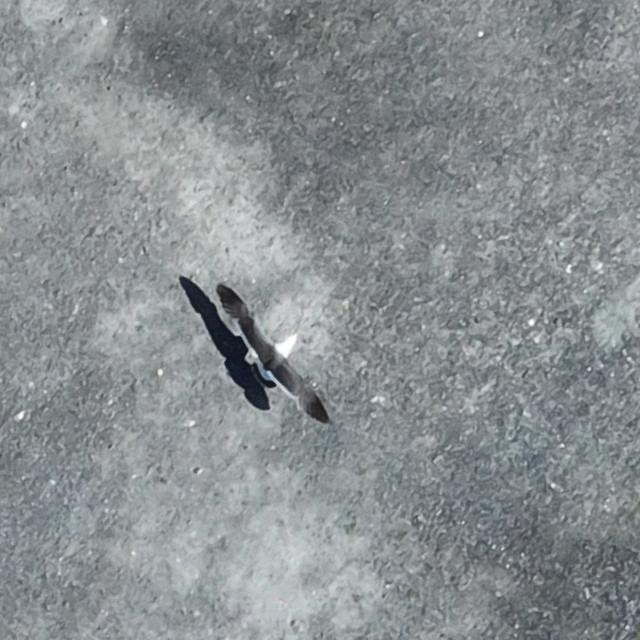F: (227, 290, 319, 414)
